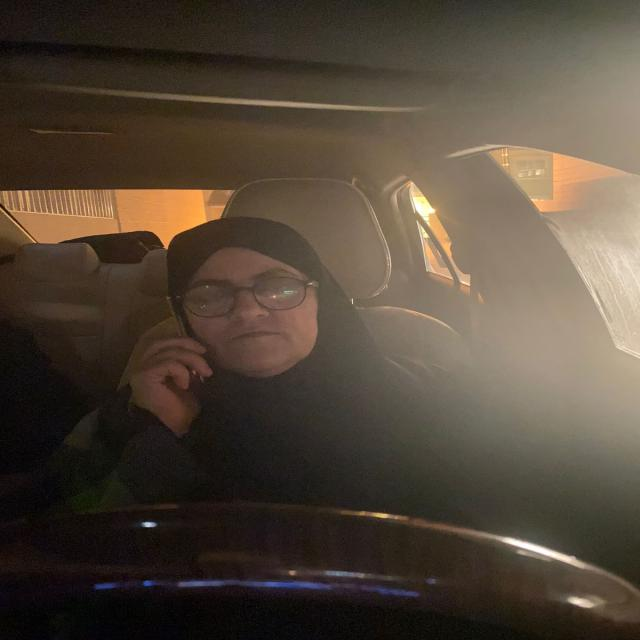mobile: (154, 298, 212, 400)
person: (164, 218, 342, 383)
